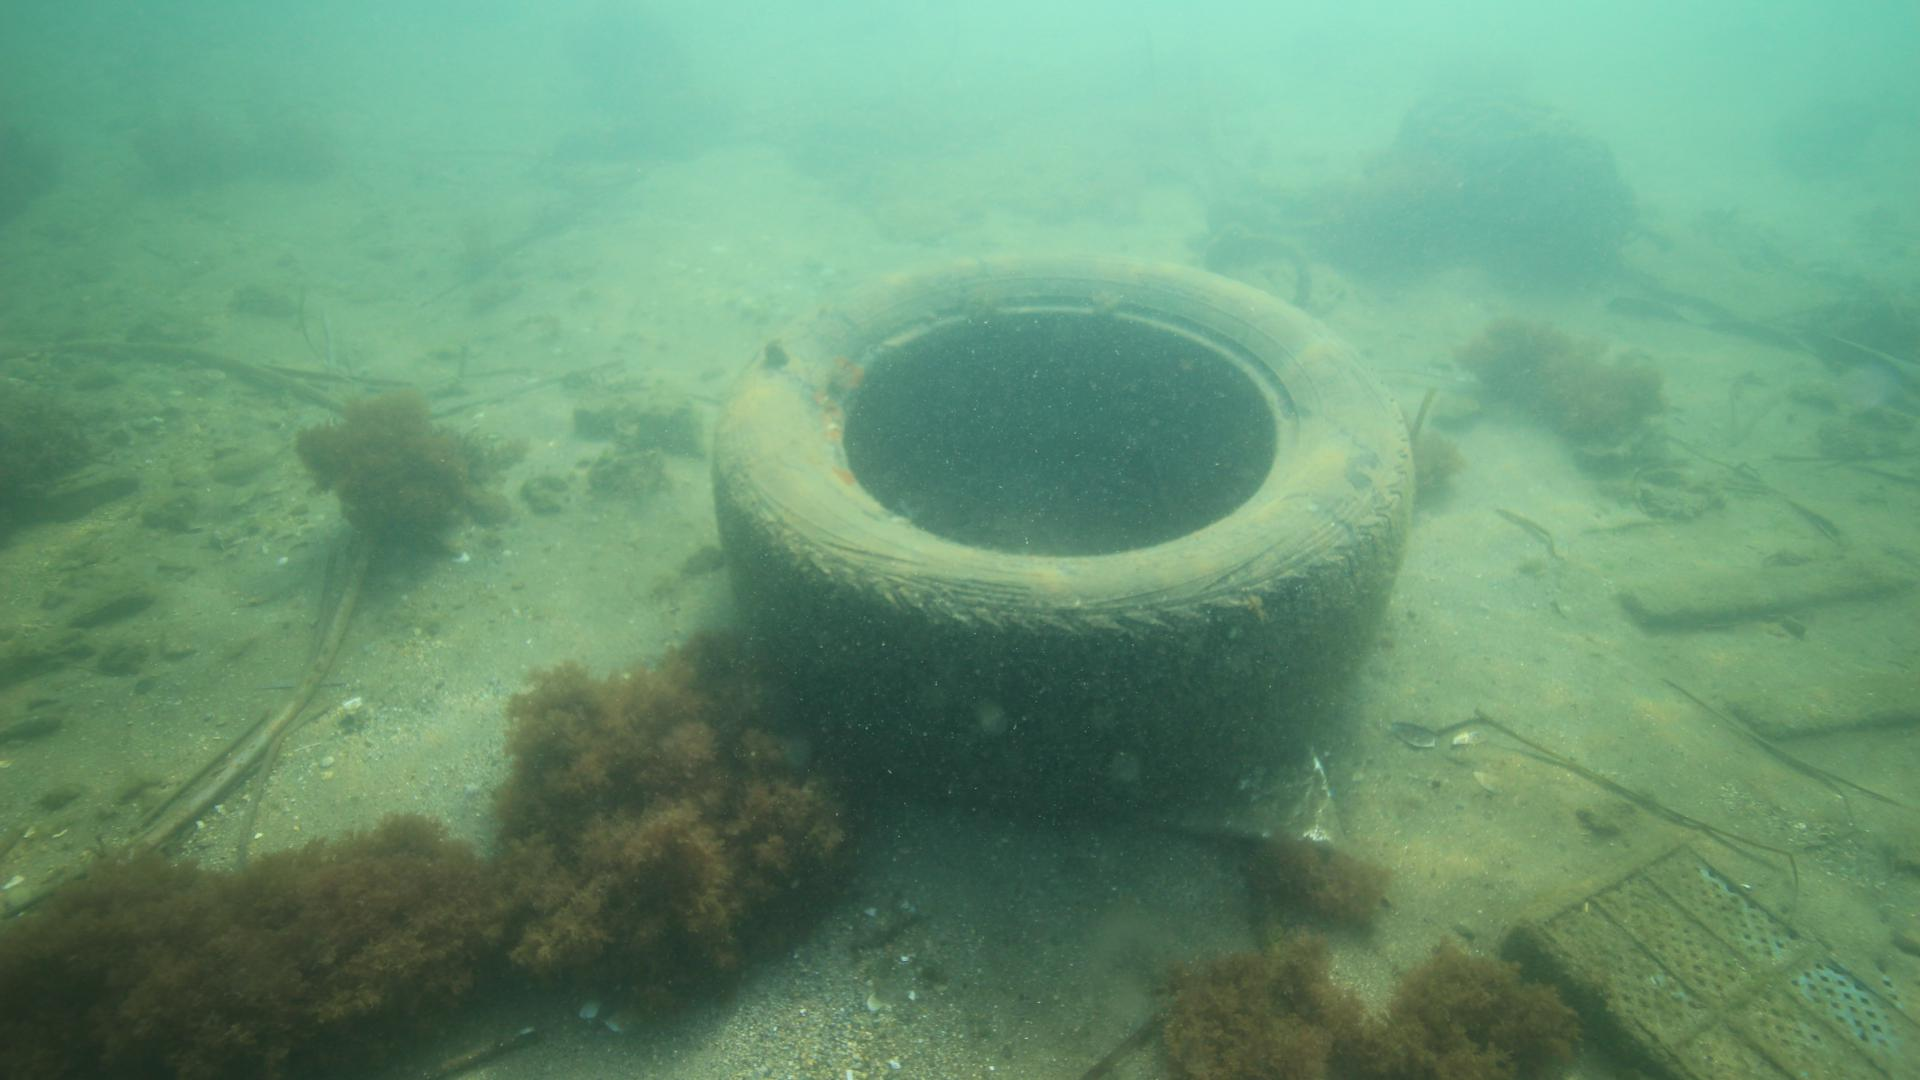tire: (709, 243, 1418, 828)
